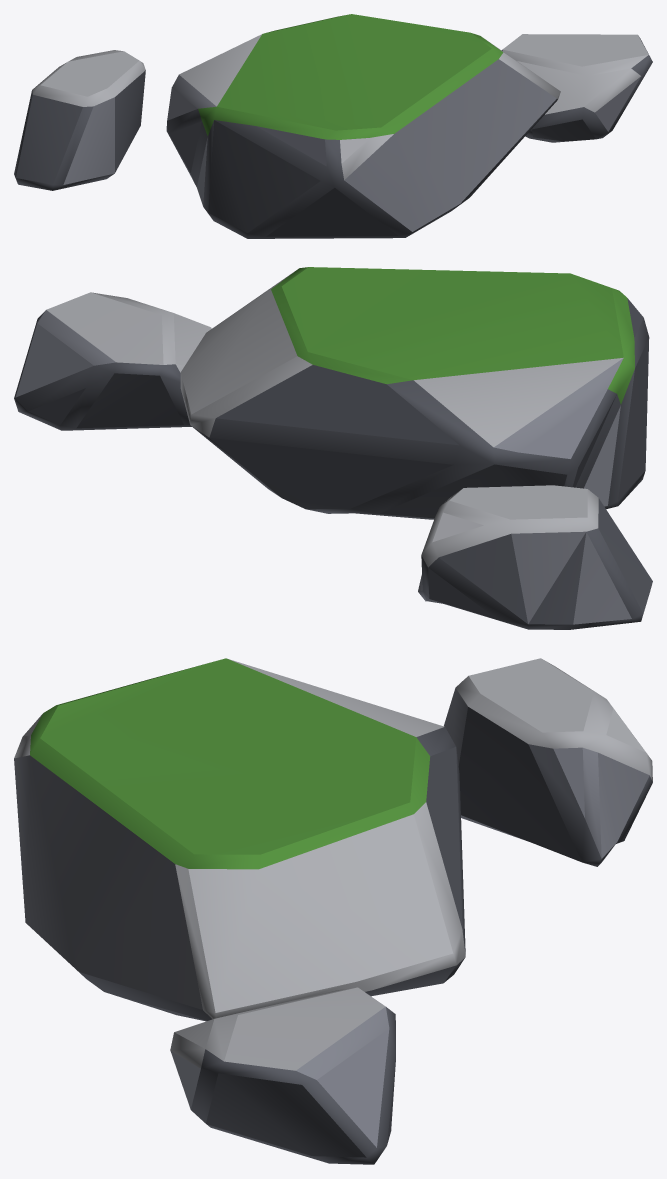
File: Rock_08.glb
3 renders of one model, top to bottom at view 1: azimuth 30°, elevation 25°; view 2: azimuth 150°, elevation 25°; view 3: azimuth 270°, elevation 25°, orthographic. The views are drawn at different scales.
Visible parts, largest first — view 1: Rock_08; view 2: Rock_08; view 3: Rock_08.
Boxes of the visible parts, box(x1,y1,x2,y2) form: Rock_08: box(14, 14, 652, 238); Rock_08: box(14, 267, 652, 629); Rock_08: box(14, 658, 652, 1164).
Bounding box in the file's own units: 3.7 × 0.7725 × 2.4.
